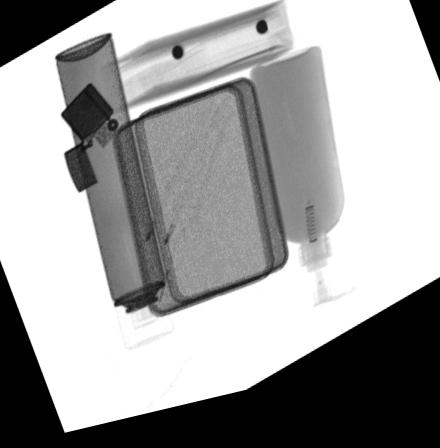Lighter: (60, 86, 117, 197)
Sprayer: (53, 39, 175, 357)
